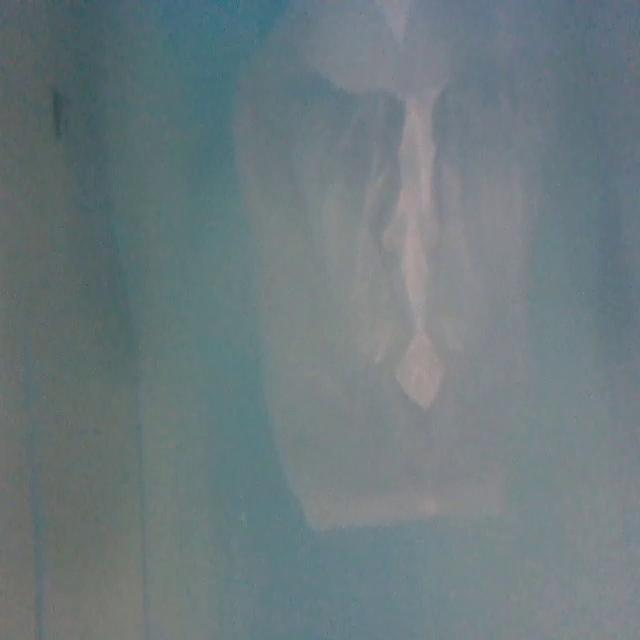plastic bags: (235, 8, 548, 536)
